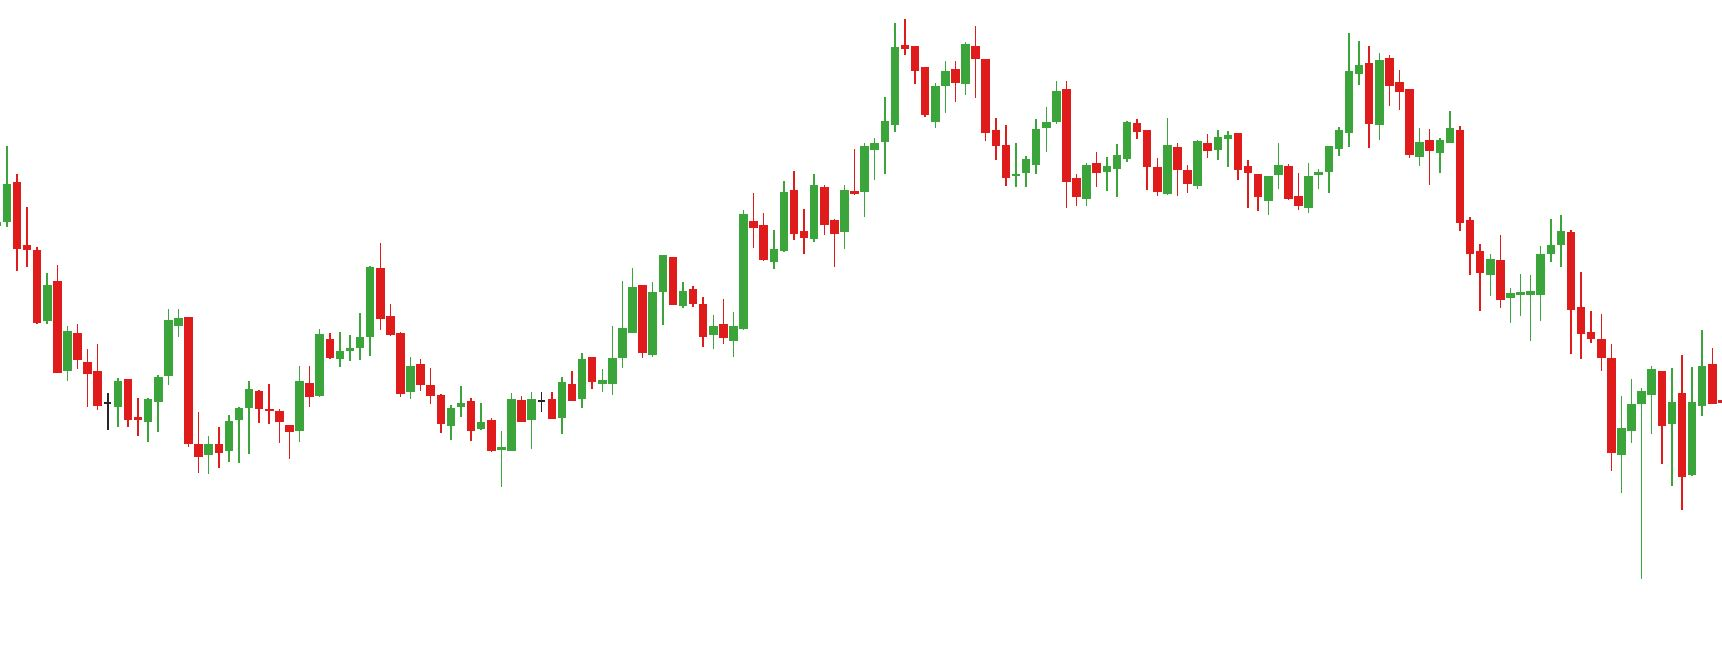buy: (135, 362, 235, 474)
sell: (1049, 34, 1375, 153), (1494, 216, 1575, 287)
